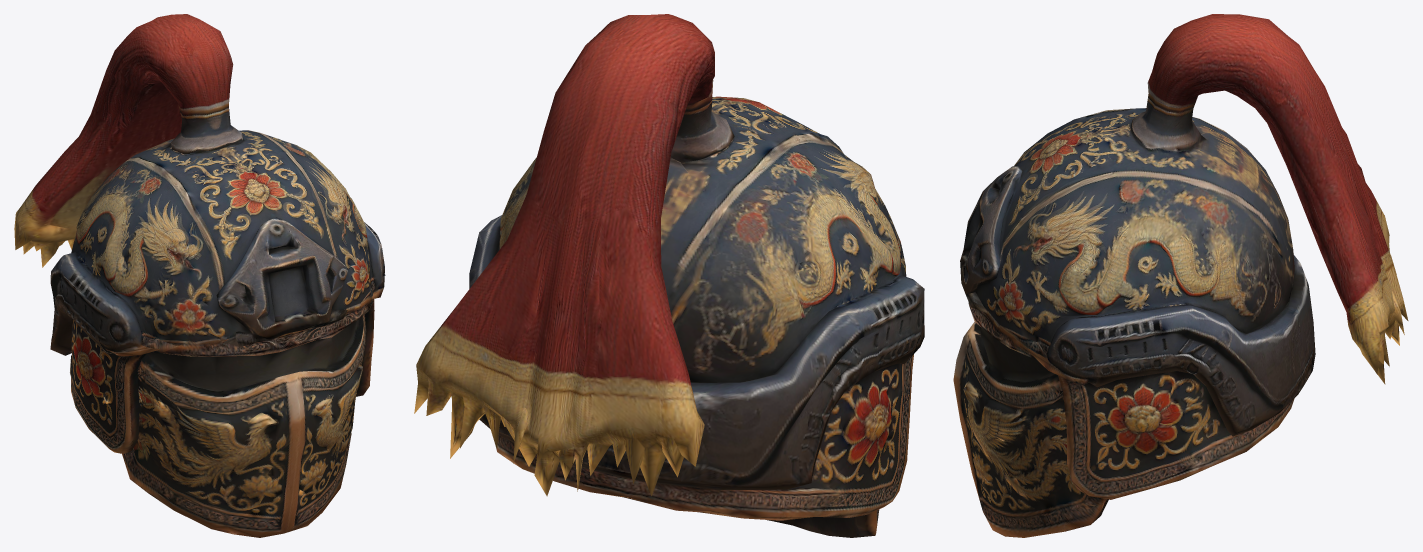
Rendered from guofengtoukui4.fbx.
The picture shows the model from 3 angles, left to right: view 1: azimuth 30°, elevation 25°; view 2: azimuth 150°, elevation 25°; view 3: azimuth 270°, elevation 25°; orthographic projection. The views are drawn at different scales.
Parts seen in each view (by area): view 1: node_755cd91f; view 2: node_755cd91f; view 3: node_755cd91f.
Boxes of the visible parts, bbox=[...] form: node_755cd91f: bbox=[14, 14, 385, 537]; node_755cd91f: bbox=[414, 14, 924, 537]; node_755cd91f: bbox=[953, 14, 1408, 537].
Bounding box in the file's own units: 0.7152 × 1.04 × 0.8606.
